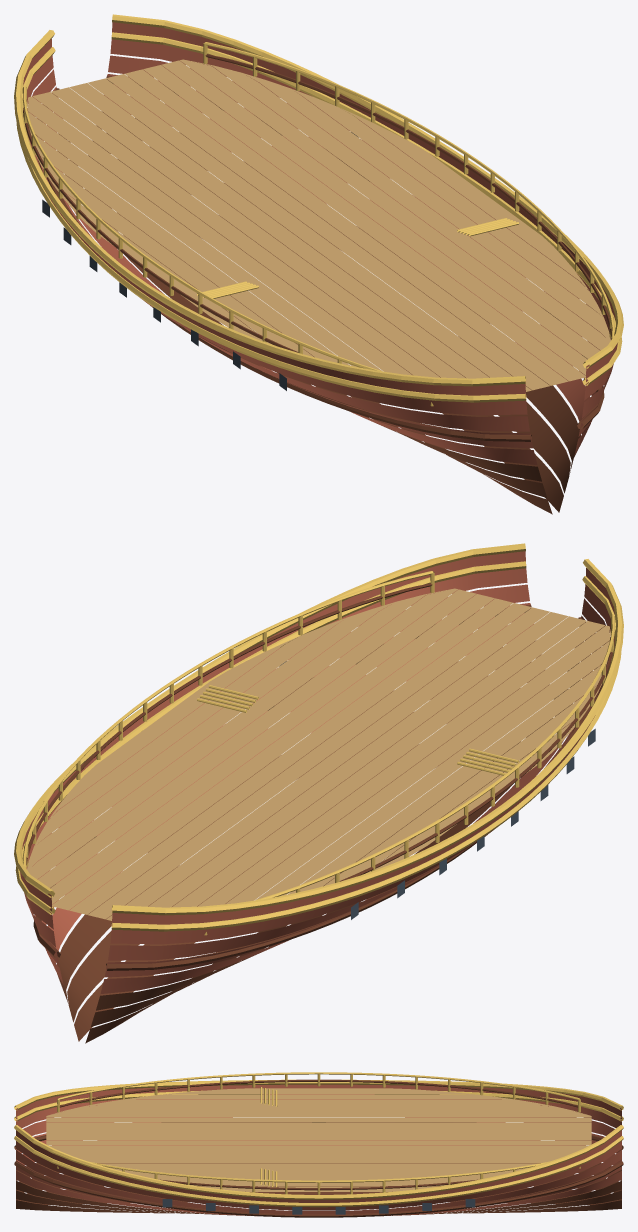
File: baratie-hull.glb
The picture shows the model from 3 angles, top to bottom: view 1: azimuth 30°, elevation 25°; view 2: azimuth 150°, elevation 25°; view 3: azimuth 270°, elevation 25°; orthographic projection. The views are drawn at different scales.
Parts seen in each view (by area): view 1: hull-role-deck.022, hull-role-trim.022, hull-role-hull.022, hull-role-hullDark.022, hull-role-metal.022; view 2: hull-role-deck.022, hull-role-trim.022, hull-role-hull.022, hull-role-hullDark.022, hull-role-metal.022; view 3: hull-role-deck.022, hull-role-hull.022, hull-role-trim.022, hull-role-hullDark.022, hull-role-metal.022.
Boxes of the visible parts, x1=… form: hull-role-deck.022: x1=27, y1=59, x2=610, y2=391; hull-role-trim.022: x1=14, y1=14, x2=623, y2=406; hull-role-hull.022: x1=23, y1=22, x2=617, y2=464; hull-role-hullDark.022: x1=23, y1=54, x2=611, y2=514; hull-role-metal.022: x1=42, y1=132, x2=358, y2=390; hull-role-deck.022: x1=27, y1=588, x2=610, y2=920; hull-role-trim.022: x1=14, y1=543, x2=623, y2=935; hull-role-hull.022: x1=20, y1=551, x2=614, y2=993; hull-role-hullDark.022: x1=26, y1=583, x2=614, y2=1043; hull-role-metal.022: x1=279, y1=661, x2=595, y2=919; hull-role-deck.022: x1=46, y1=1088, x2=591, y2=1191; hull-role-hull.022: x1=16, y1=1084, x2=621, y2=1216; hull-role-trim.022: x1=14, y1=1072, x2=623, y2=1207; hull-role-hullDark.022: x1=14, y1=1079, x2=623, y2=1217; hull-role-metal.022: x1=162, y1=1199, x2=475, y2=1214.
Bounding box in the file's own units: 33.93 × 12.45 × 74.51.
